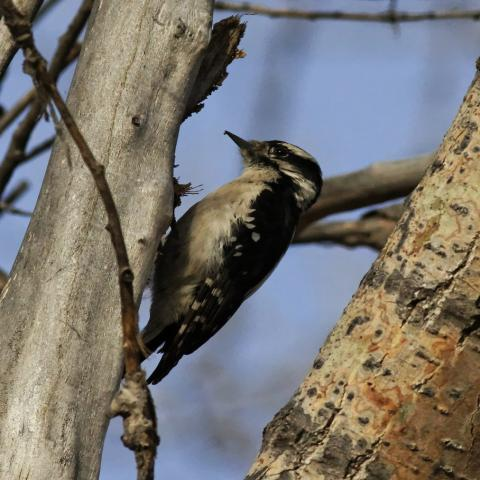bird: (122, 128, 324, 386)
